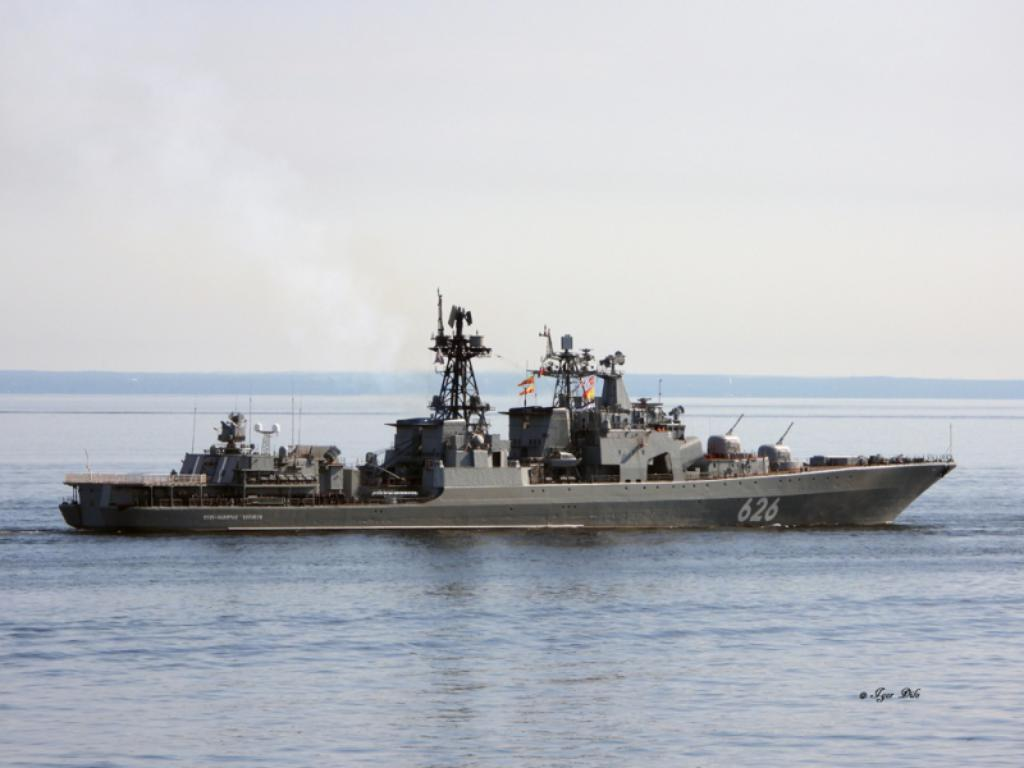Warship: (56, 290, 958, 532)
